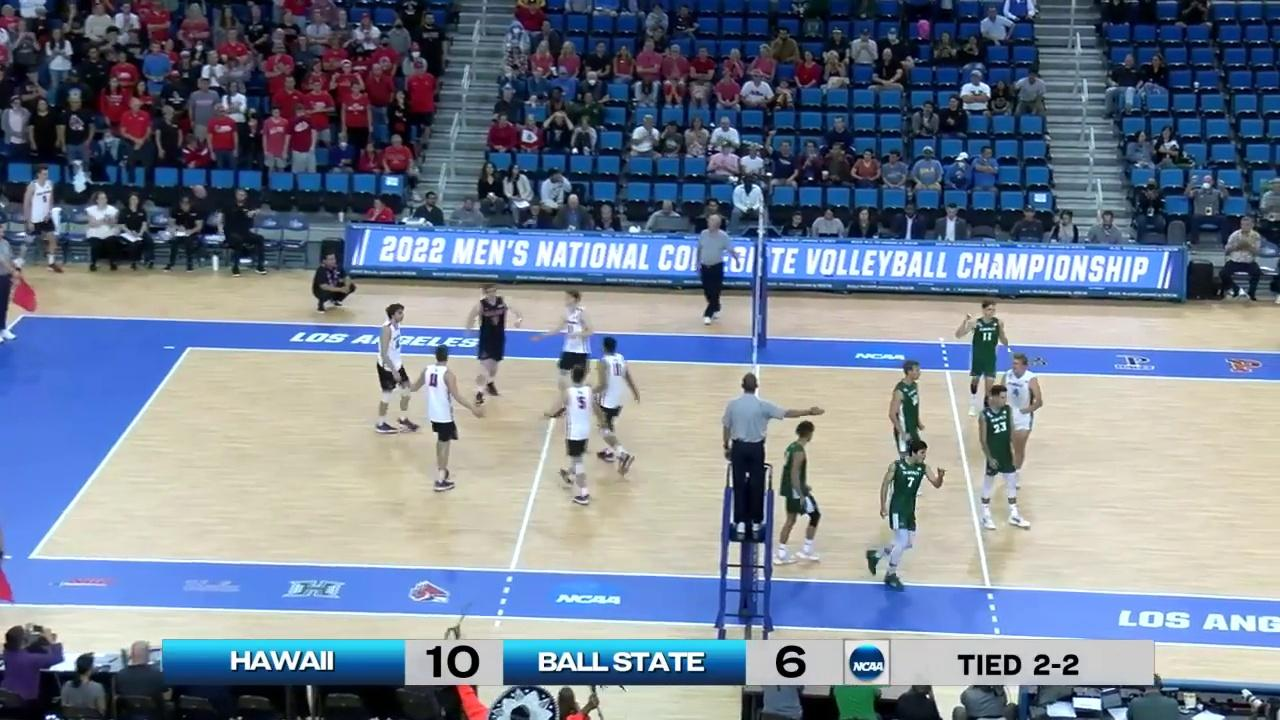player: (866, 438, 928, 589), (414, 347, 473, 487), (541, 287, 603, 415), (977, 383, 1028, 532), (776, 418, 827, 563), (552, 365, 603, 507), (587, 338, 638, 472), (884, 354, 933, 493), (1000, 353, 1044, 481), (376, 304, 419, 432), (472, 285, 516, 409), (961, 301, 1005, 418)
refree: (719, 374, 783, 533), (696, 213, 734, 324)
